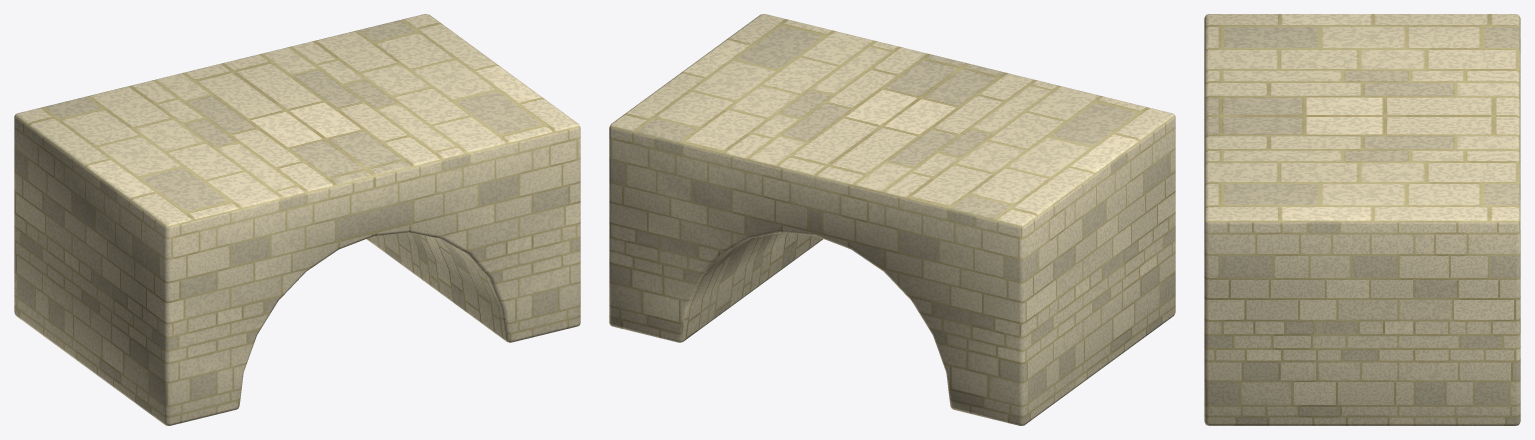
Rendered from Arch_2.gltf.
3 views of the same model, side by side, from view 1: azimuth 30°, elevation 25°; view 2: azimuth 150°, elevation 25°; view 3: azimuth 270°, elevation 25° (orthographic). The views are drawn at different scales.
Visible parts, largest first — view 1: Cylinder.002; view 2: Cylinder.002; view 3: Cylinder.002.
Part boxes in pixels (x1=…): Cylinder.002: x1=14, y1=14, x2=580, y2=425; Cylinder.002: x1=609, y1=14, x2=1175, y2=425; Cylinder.002: x1=1204, y1=14, x2=1520, y2=425.
Bounding box in the file's own units: 3.11 × 1.45 × 2.
Materials: 1 (1 with a texture image).
